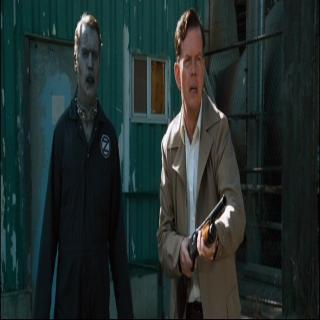gun: (169, 195, 235, 289)
